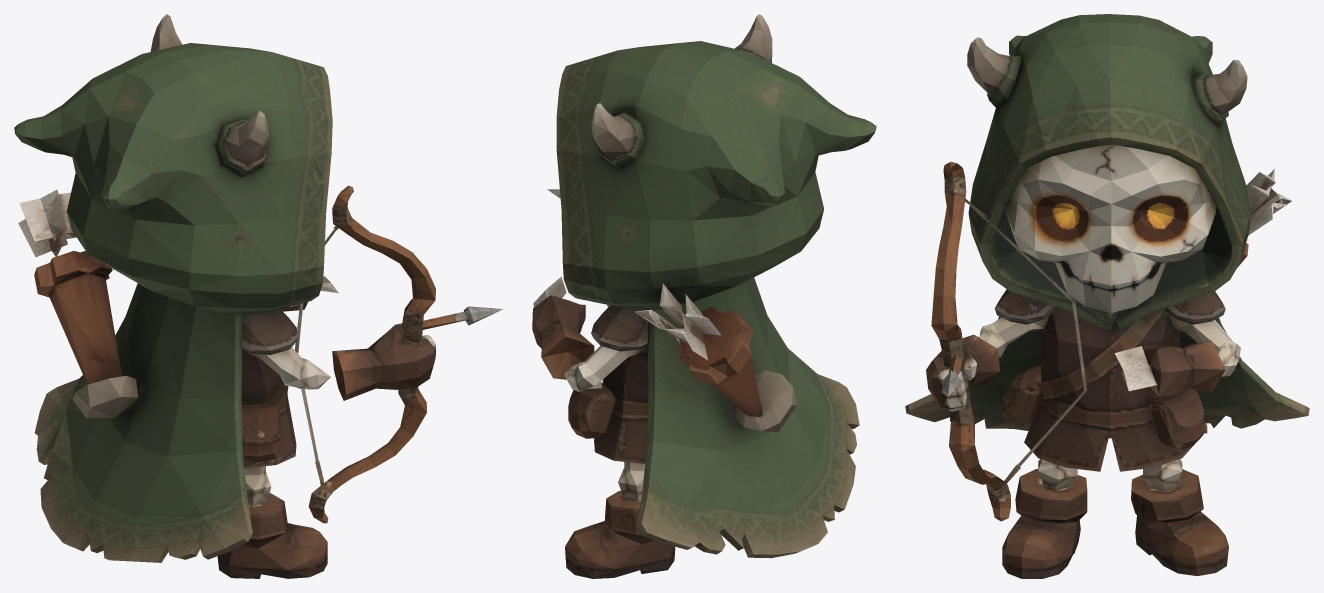
File: archer.glb
The picture shows the model from 3 angles, left to right: view 1: azimuth 30°, elevation 25°; view 2: azimuth 150°, elevation 25°; view 3: azimuth 270°, elevation 25°; orthographic projection. The views are drawn at different scales.
Parts seen in each view (by area): view 1: tripo_node_09233b01-b66a-423d-8314-d91ec8d16a25; view 2: tripo_node_09233b01-b66a-423d-8314-d91ec8d16a25; view 3: tripo_node_09233b01-b66a-423d-8314-d91ec8d16a25.
Part boxes in pixels (x1=…): tripo_node_09233b01-b66a-423d-8314-d91ec8d16a25: x1=14, y1=14, x2=503, y2=578; tripo_node_09233b01-b66a-423d-8314-d91ec8d16a25: x1=532, y1=14, x2=876, y2=578; tripo_node_09233b01-b66a-423d-8314-d91ec8d16a25: x1=905, y1=14, x2=1309, y2=578.
Size of the model in its own units: 0.7676 by 0.998 by 0.7246.
1 material, 1 textured.
